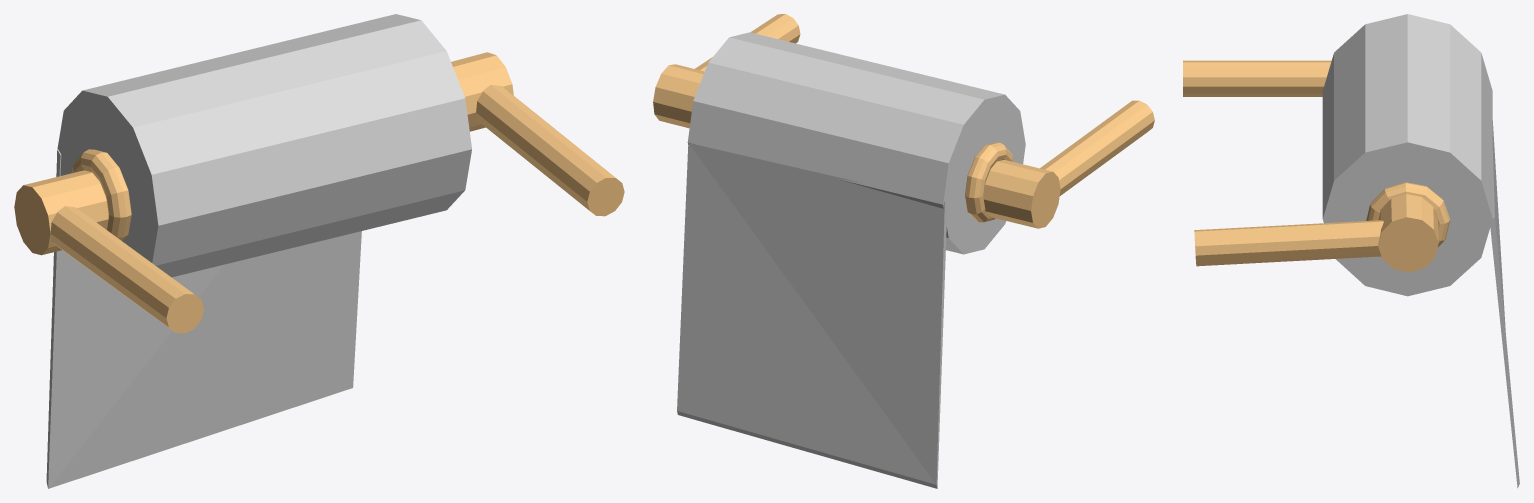
Rendered from Paper Towel.glb.
3 renders of one model, left to right at view 1: azimuth 30°, elevation 25°; view 2: azimuth 150°, elevation 25°; view 3: azimuth 270°, elevation 25°, orthographic. The views are drawn at different scales.
Visible parts, largest first — view 1: group24771696, group1730847945, group479305224, group1556431417, group1409475458; view 2: group1730847945, group24771696, group479305224, group1409475458, group1556431417; view 3: group24771696, group1556431417, group479305224, group1409475458, group1730847945, group1296031514.
Part boxes in pixels (x1,y1,x2,y2): group24771696: (57, 14, 471, 277); group1730847945: (46, 149, 361, 488); group479305224: (14, 149, 203, 333); group1556431417: (476, 85, 624, 216); group1409475458: (451, 52, 513, 131); group1730847945: (677, 143, 947, 488); group24771696: (687, 32, 1025, 254); group479305224: (965, 100, 1154, 228); group1409475458: (653, 64, 704, 128); group1556431417: (695, 14, 800, 71); group24771696: (1322, 14, 1492, 296); group1556431417: (1194, 220, 1383, 266); group479305224: (1183, 60, 1331, 96); group1409475458: (1378, 194, 1438, 272); group1730847945: (1490, 120, 1519, 488); group1296031514: (1366, 182, 1450, 246).
Size of the model in its own units: 0.3711 by 0.3312 by 0.2774.
